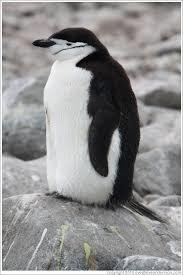chinstrap: (22, 15, 148, 228)
